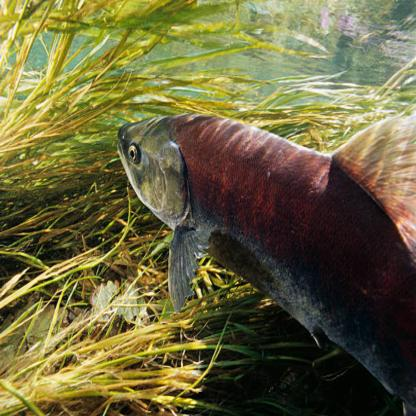sockeye: (117, 98, 416, 382)
